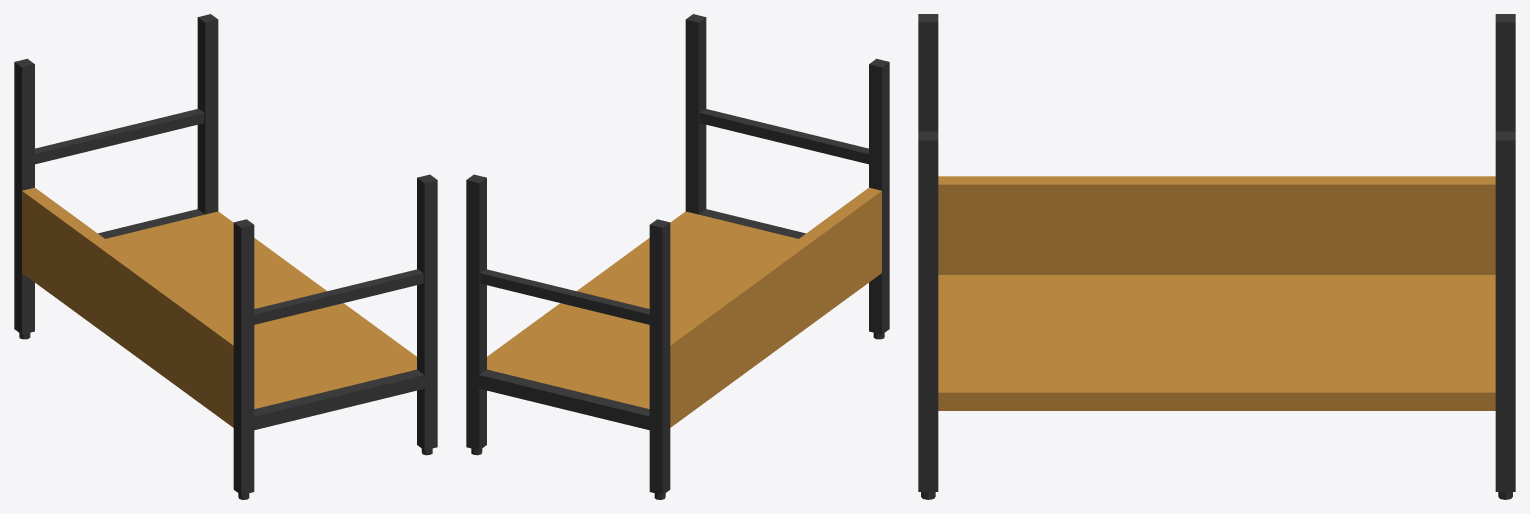
Rendered from legFrameBookcase_head.fbx.
The picture shows the model from 3 angles, left to right: view 1: azimuth 30°, elevation 25°; view 2: azimuth 150°, elevation 25°; view 3: azimuth 270°, elevation 25°; orthographic projection. The views are drawn at different scales.
Visible parts, largest first — view 1: legFrameBookcase_head; view 2: legFrameBookcase_head; view 3: legFrameBookcase_head.
Part boxes in pixels (bbox=[...]): legFrameBookcase_head: bbox=[14, 14, 437, 499]; legFrameBookcase_head: bbox=[466, 14, 889, 499]; legFrameBookcase_head: bbox=[918, 14, 1515, 499].
Size of the model in its own units: 30 by 40 by 60.
